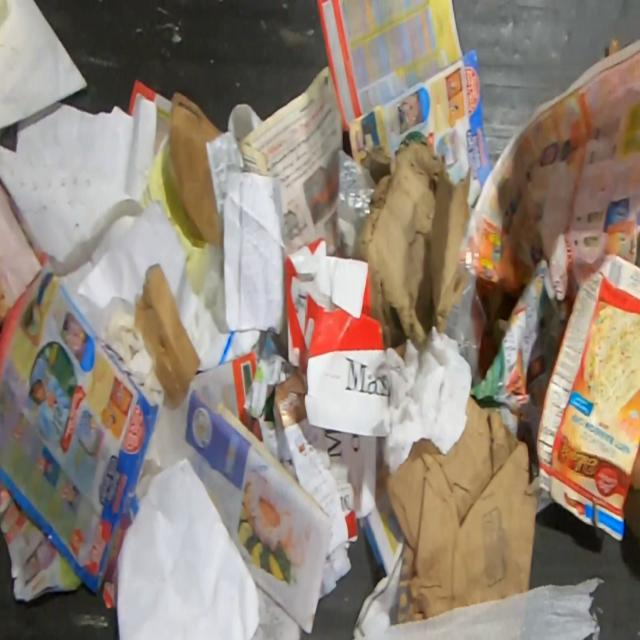cardboard: (315, 0, 492, 208), (385, 395, 538, 625), (283, 236, 390, 549), (535, 250, 640, 543), (352, 140, 473, 363), (134, 262, 202, 409), (167, 90, 223, 246)
soft_plastic: (441, 208, 488, 379), (334, 146, 377, 233)
